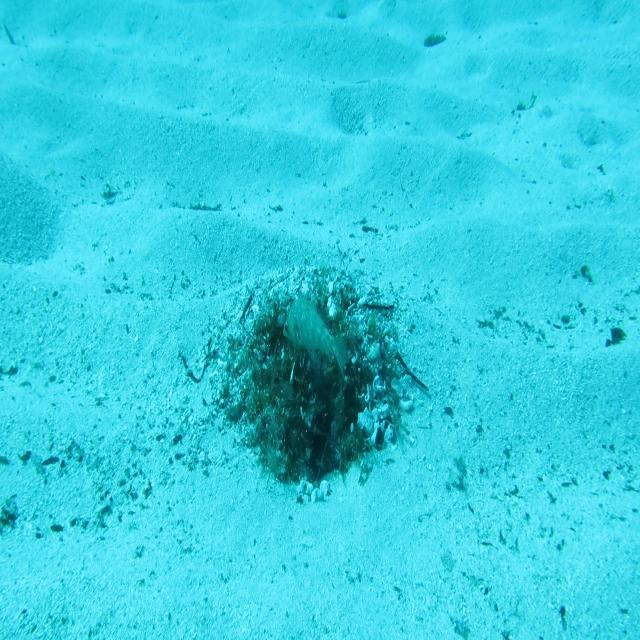NIP_CORE: (282, 292, 348, 386)
core_nest: (280, 317, 334, 363)
nest: (189, 256, 424, 509)
vegetation: (422, 32, 446, 52)
